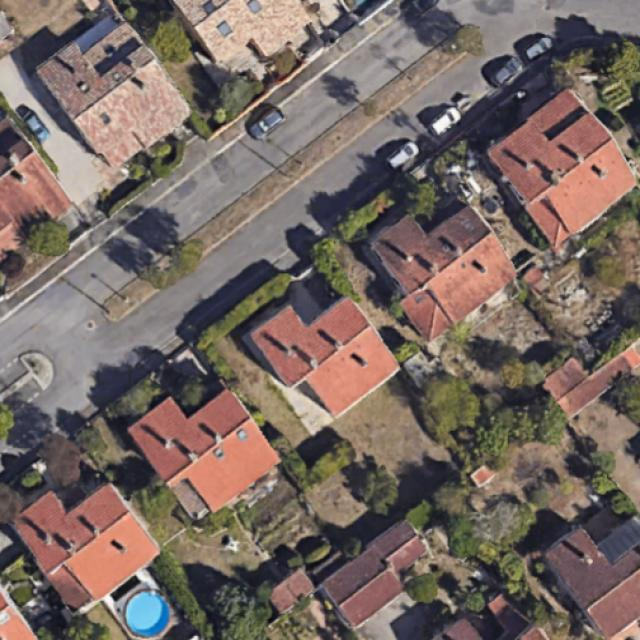maison: (33, 7, 197, 177), (359, 180, 524, 344), (480, 82, 640, 251), (124, 366, 284, 530), (4, 457, 164, 619), (247, 272, 401, 429)
